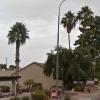Palm tree: (62, 7, 100, 57)
